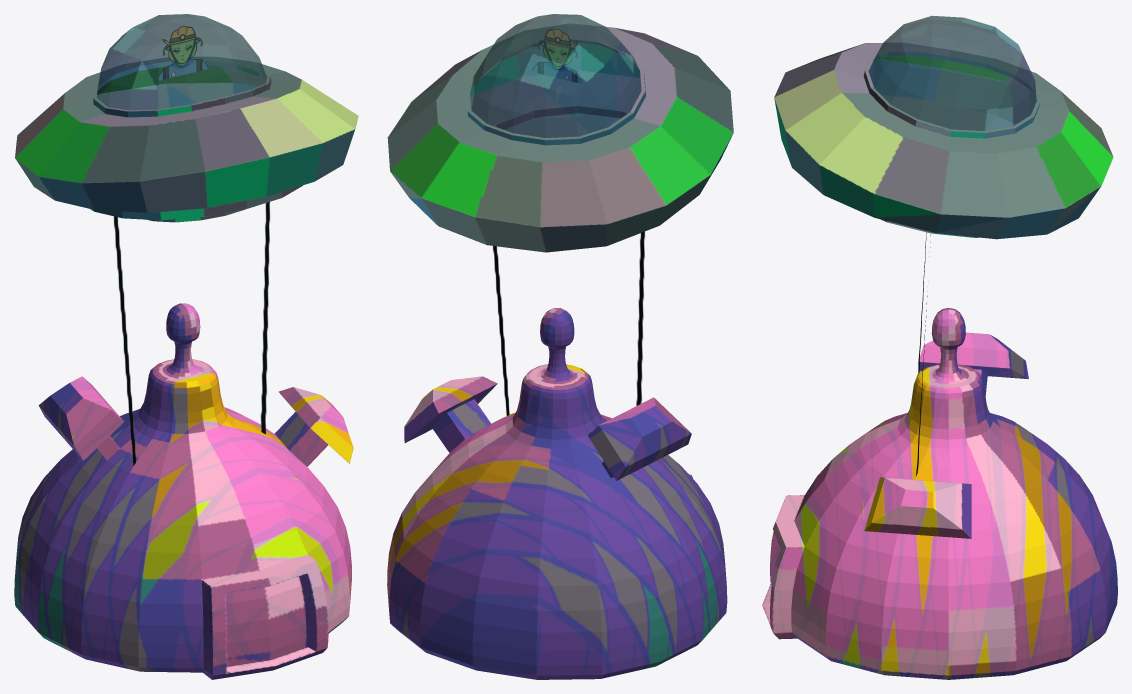
File: ship_construction.glb
3 renders of one model, left to right at view 1: azimuth 30°, elevation 25°; view 2: azimuth 150°, elevation 25°; view 3: azimuth 270°, elevation 25°, orthographic.
Visible parts, largest first — view 1: ship_construction; view 2: ship_construction; view 3: ship_construction.
Boxes of the visible parts, left/top/right/bottom form: ship_construction: left=14, top=14, right=358, bottom=679; ship_construction: left=387, top=14, right=733, bottom=679; ship_construction: left=762, top=15, right=1117, bottom=679.
Size of the model in its own units: 1.5 by 2.86 by 1.55.
Materials: 1 (1 with a texture image).
